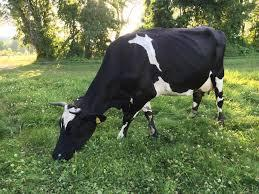cow: (48, 26, 228, 161)
